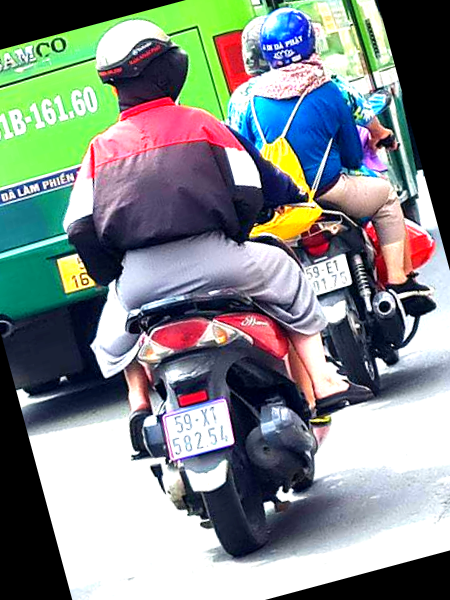number: (166, 403, 233, 458)
